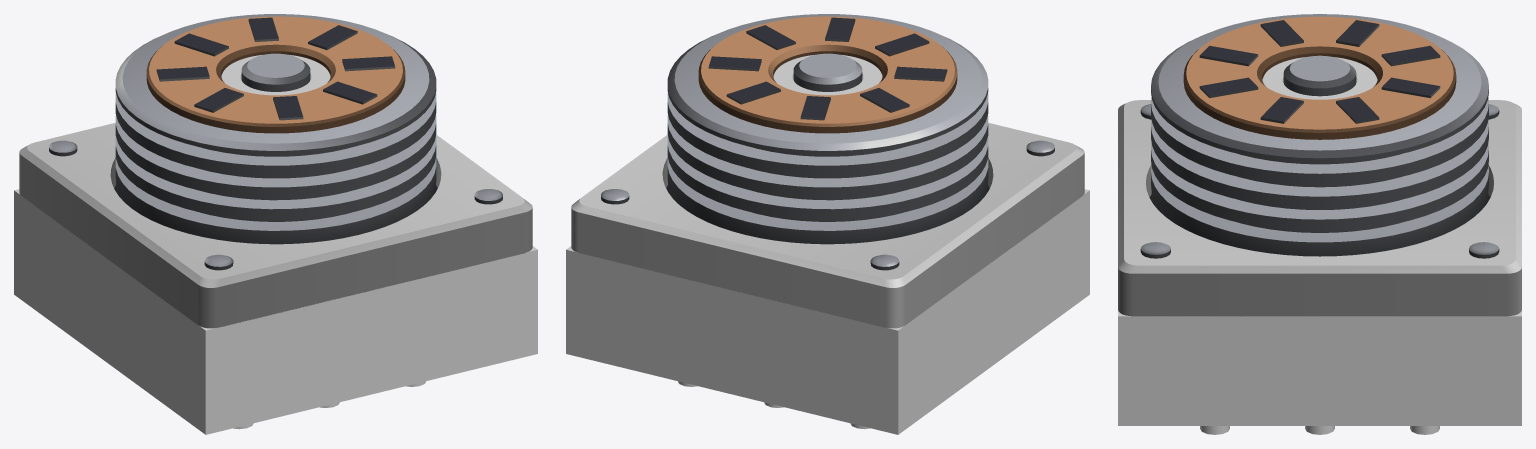
The model's file is part_magnetron.glb.
3 renders of one model, left to right at view 1: azimuth 30°, elevation 25°; view 2: azimuth 150°, elevation 25°; view 3: azimuth 270°, elevation 25°, orthographic. The views are drawn at different scales.
Visible parts, largest first — view 1: Korpus, Gehaeuse, Plattform, Licht; view 2: Korpus, Gehaeuse, Plattform, Licht; view 3: Korpus, Gehaeuse, Plattform, Licht, Stecker.
Boxes of the visible parts, x1,y1,x2,y2 form: Korpus: (49,14,502,270); Gehaeuse: (14,189,537,434); Plattform: (19,123,532,328); Licht: (222,55,329,95); Korpus: (601,14,1054,270); Gehaeuse: (566,189,1089,434); Plattform: (571,123,1084,328); Licht: (774,55,881,95); Korpus: (1140,14,1499,258); Gehaeuse: (1118,310,1521,425); Plattform: (1118,100,1521,316); Licht: (1263,57,1376,99); Stecker: (1200,426,1439,434).
Size of the model in its own units: 0.8 by 0.69 by 0.8.
